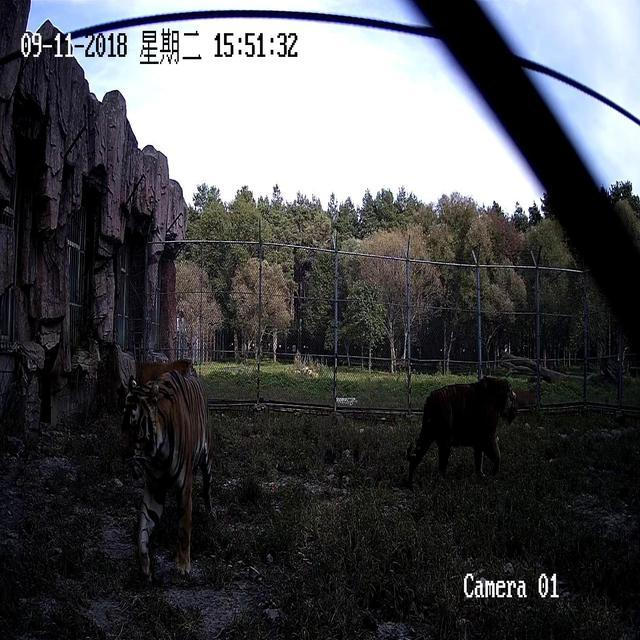tiger: (118, 357, 213, 581), (404, 374, 518, 485)
